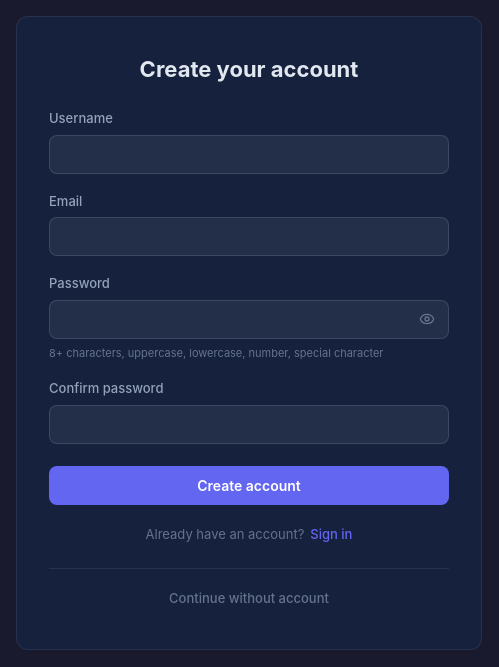
it: Signup › after signup, shows verification step
Type "newuser" into the field labelled "Username" at x=249, y=154, box [49, 135, 449, 174]
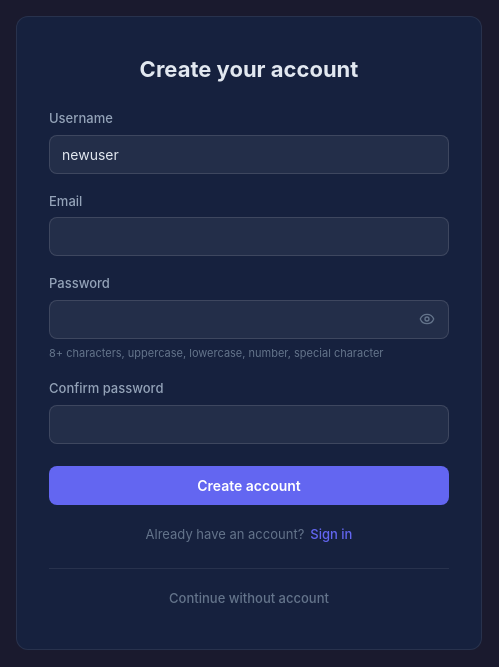
Type "new@example.com" into the field labelled "Email" at x=249, y=237, box [49, 217, 449, 256]
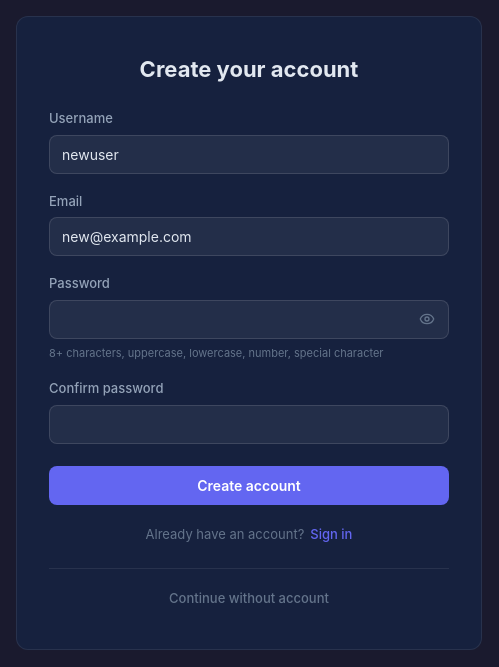
Type "StrongPass1!" into the password field labelled "Password" at x=249, y=319, box [49, 300, 449, 339]
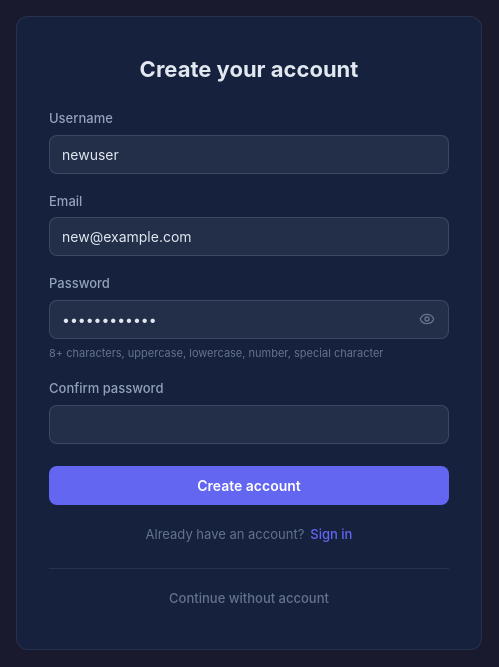
Type "StrongPass1!" into the password field labelled "Confirm password" at x=249, y=424, box [49, 405, 449, 444]
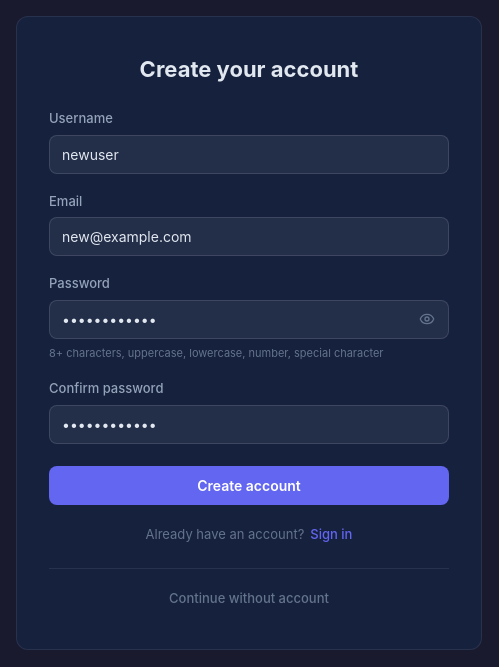
Click the button "Create account" at x=249, y=485, box [49, 466, 449, 505]
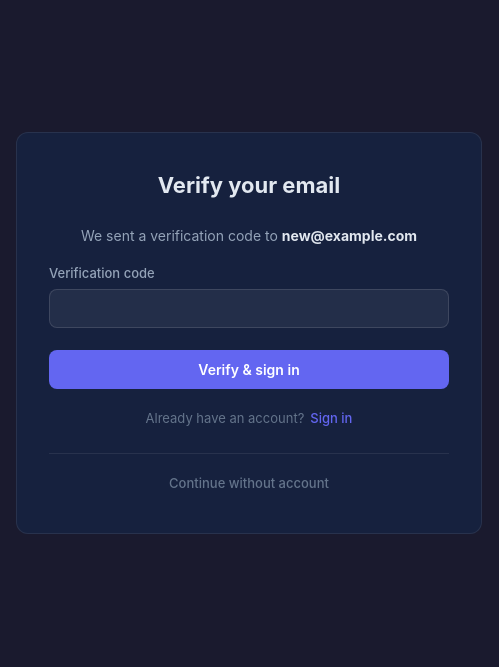
Expected: the field labelled "Verification code" is shown, [49, 289, 449, 328]
Now the heading "Verify your email" is shown, box [158, 172, 340, 198]
Now the text "new@example.com" is shown, box [282, 227, 417, 244]
